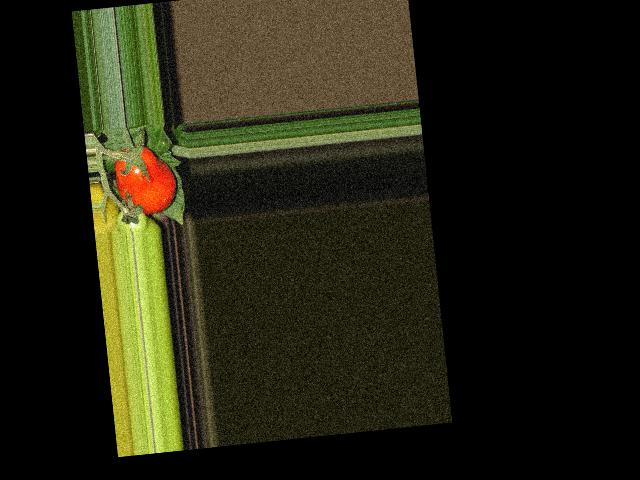tomato: (112, 142, 179, 216)
